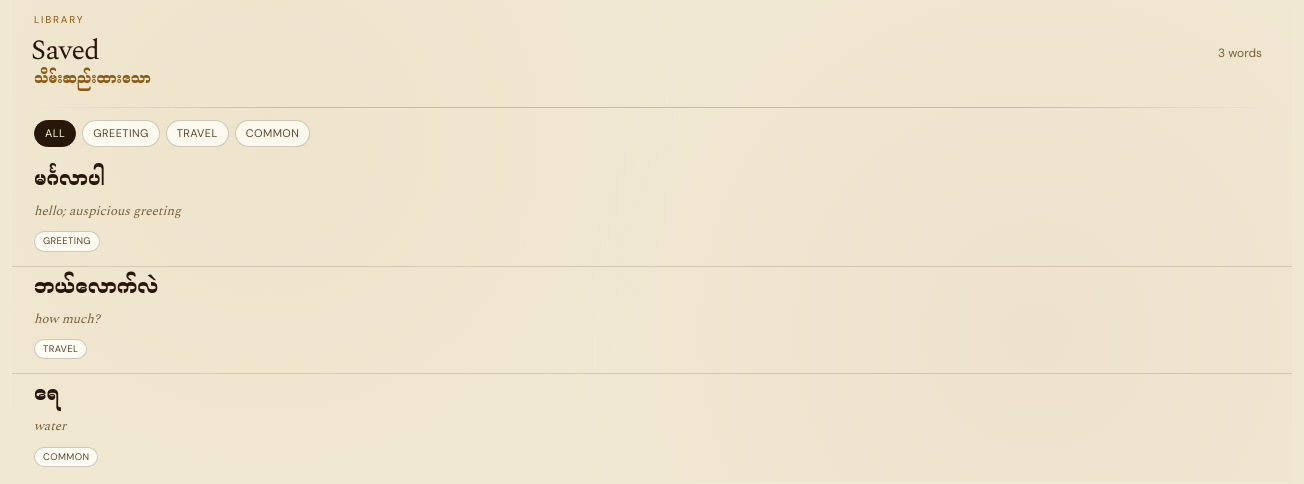
Test: FavoritesView › filtering by tag narrows the visible items
Click the button "travel" at (197, 134), box x1=166 y1=120 x2=229 y2=147
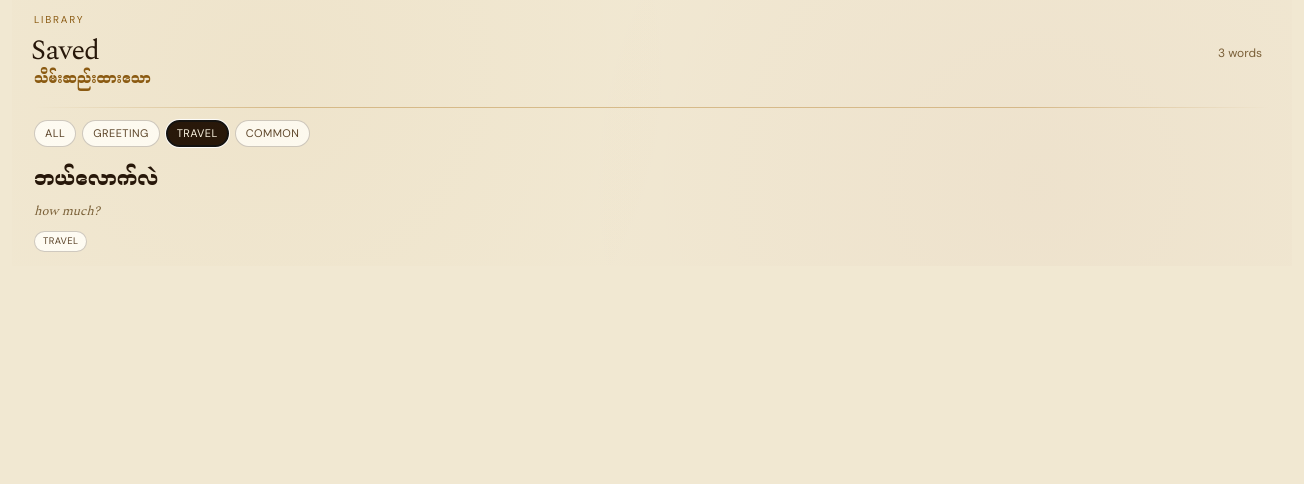
expect the text "ဘယ်လောက်လဲ" is shown: met, box x1=34 y1=160 x2=158 y2=210
expect the button "မင်္ဂလာပါ" is gone: met
